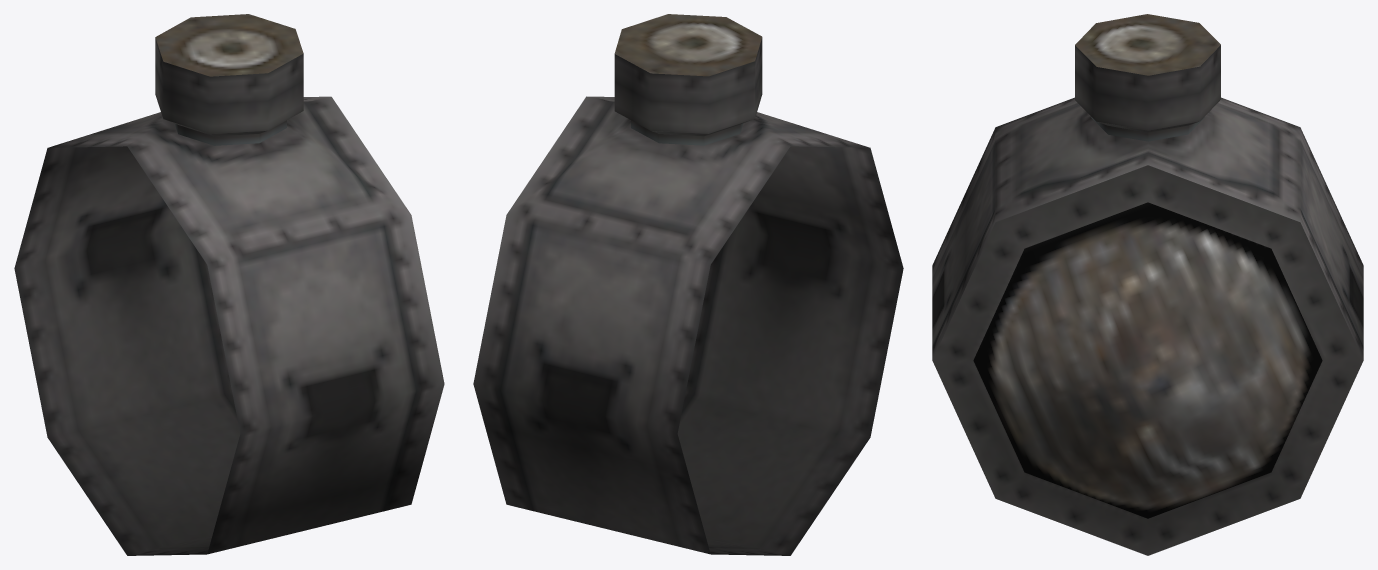
Rendered from metroLamp.fbx.
3 renders of one model, left to right at view 1: azimuth 30°, elevation 25°; view 2: azimuth 150°, elevation 25°; view 3: azimuth 270°, elevation 25°, orthographic. The views are drawn at different scales.
Parts seen in each view (by area): view 1: metrolamp; view 2: metrolamp; view 3: metrolamp.
Part boxes in pixels (x1=…): metrolamp: x1=14, y1=14, x2=444, y2=555; metrolamp: x1=473, y1=14, x2=903, y2=555; metrolamp: x1=932, y1=14, x2=1363, y2=555.
Bounding box in the file's own units: 0.0709 × 0.1276 × 0.1076.
